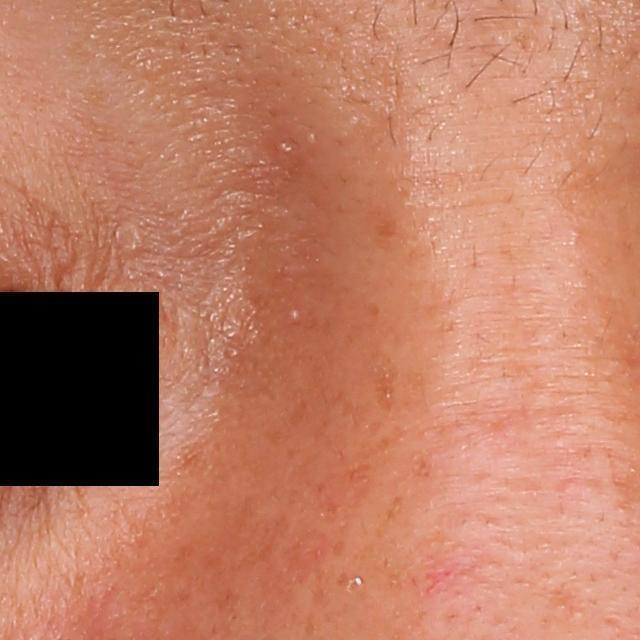melasma: (364, 349, 402, 414)
